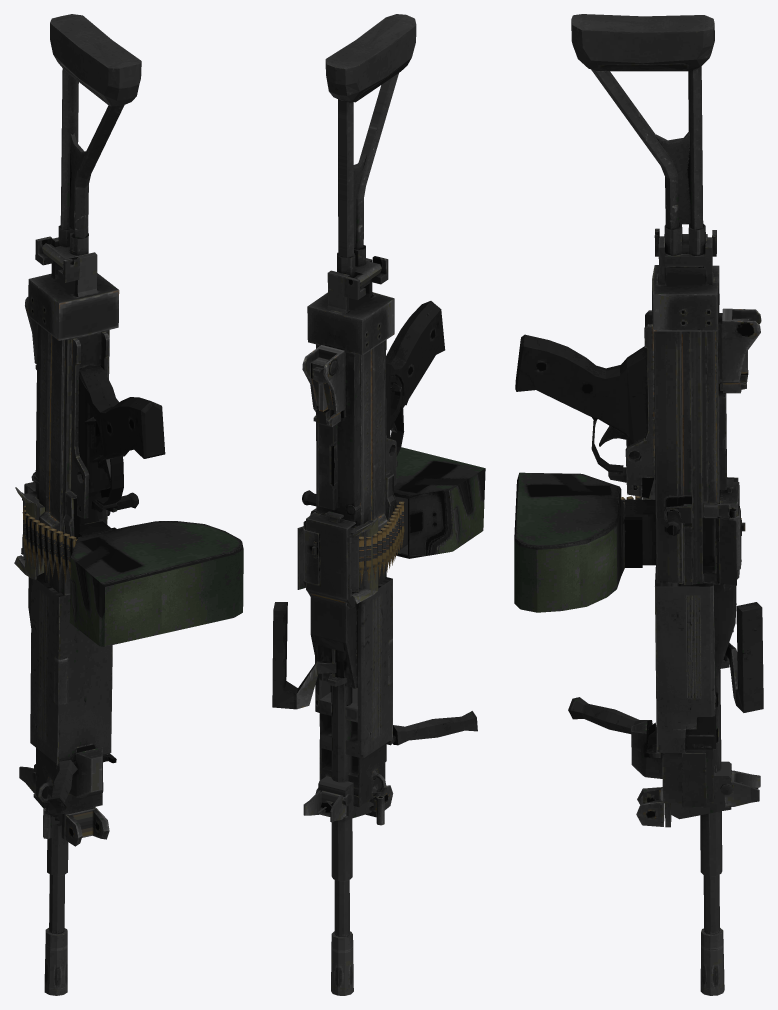
File: w_mach_negev_combine.obj
3 renders of one model, left to right at view 1: azimuth 30°, elevation 25°; view 2: azimuth 150°, elevation 25°; view 3: azimuth 270°, elevation 25°, orthographic. The views are drawn at different scales.
Bounding box in the file's own units: 0.0807 × 0.4309 × 0.1001.
Materials: 1 (1 with a texture image).
